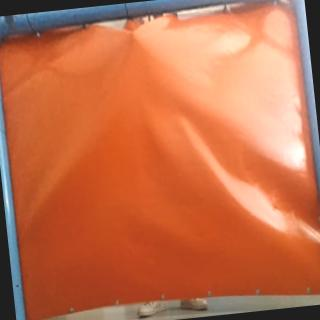Hit-hRxx: (126, 25, 140, 41)
